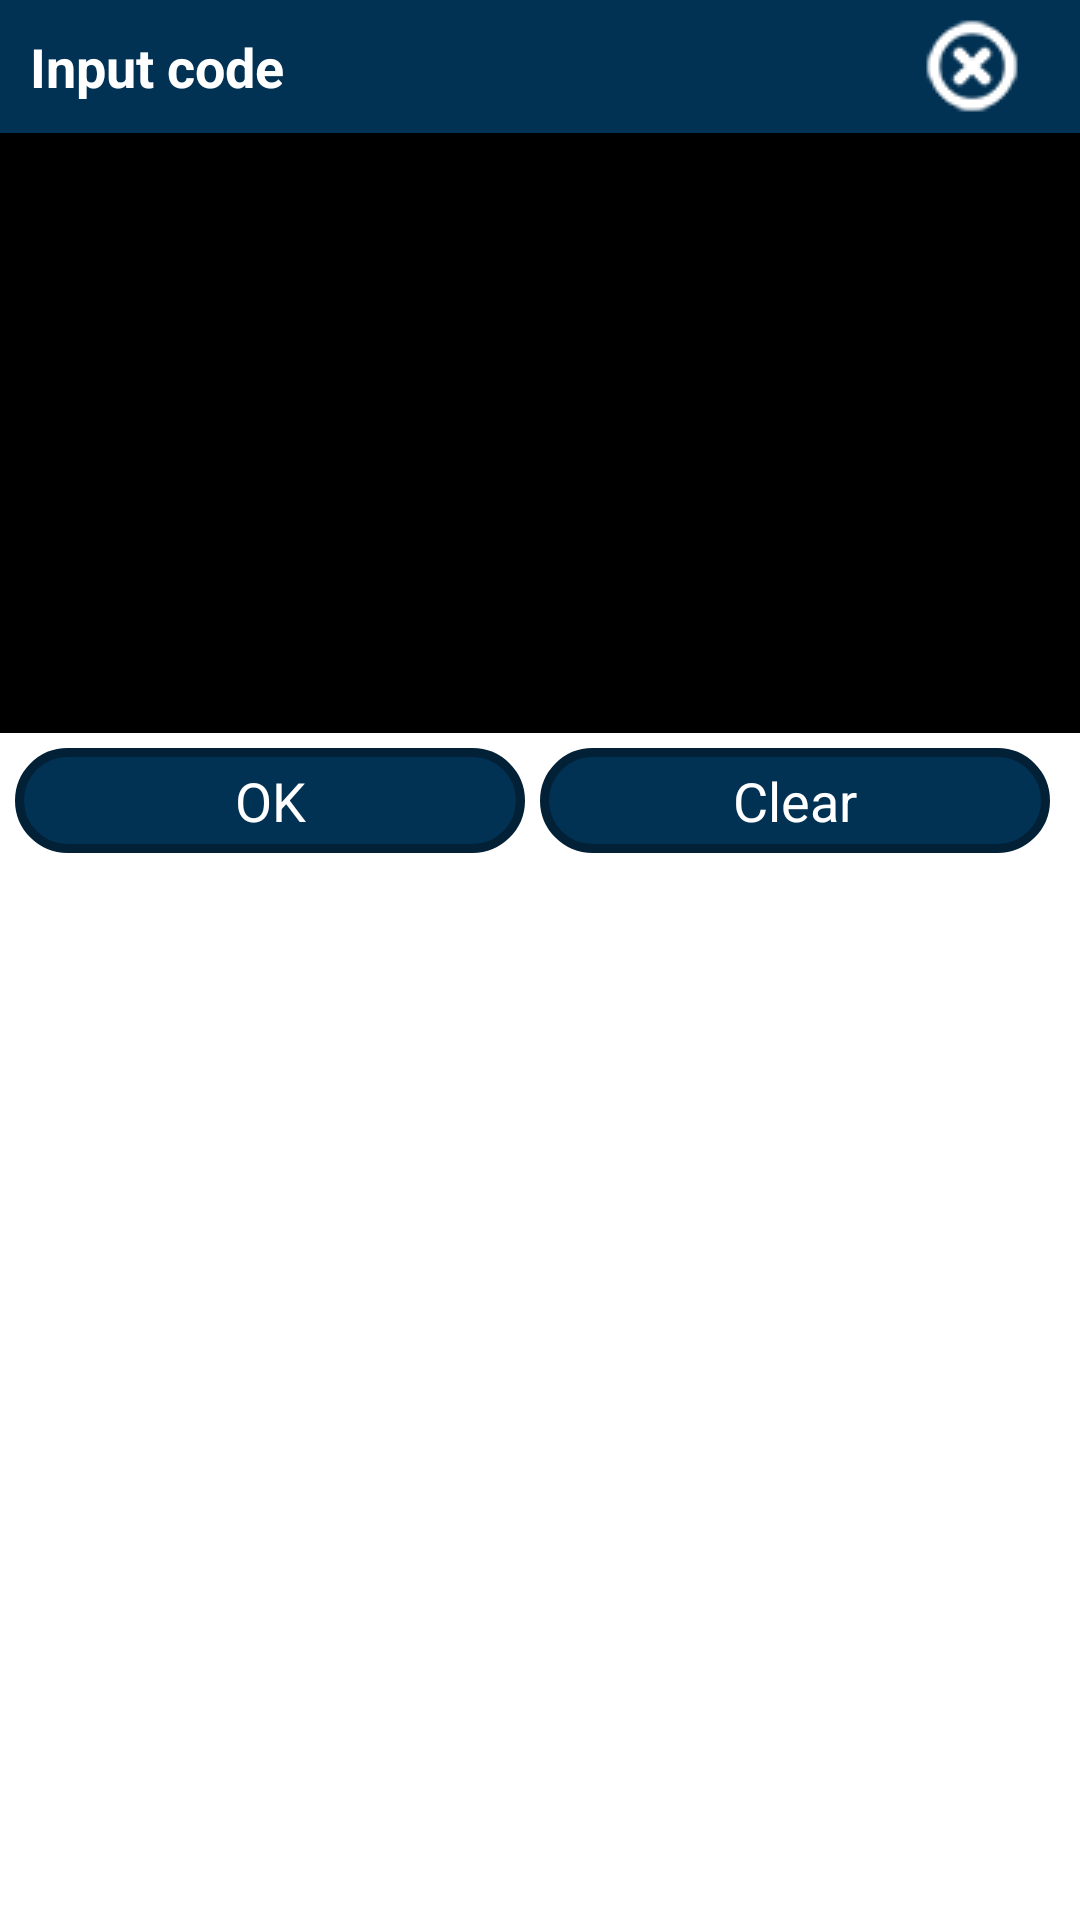

Locate icon controls on the screen. Image size 1080px x 1920px, boxes as [x1,y1,x2,y2].
gcs close: [926,20,1018,112]
